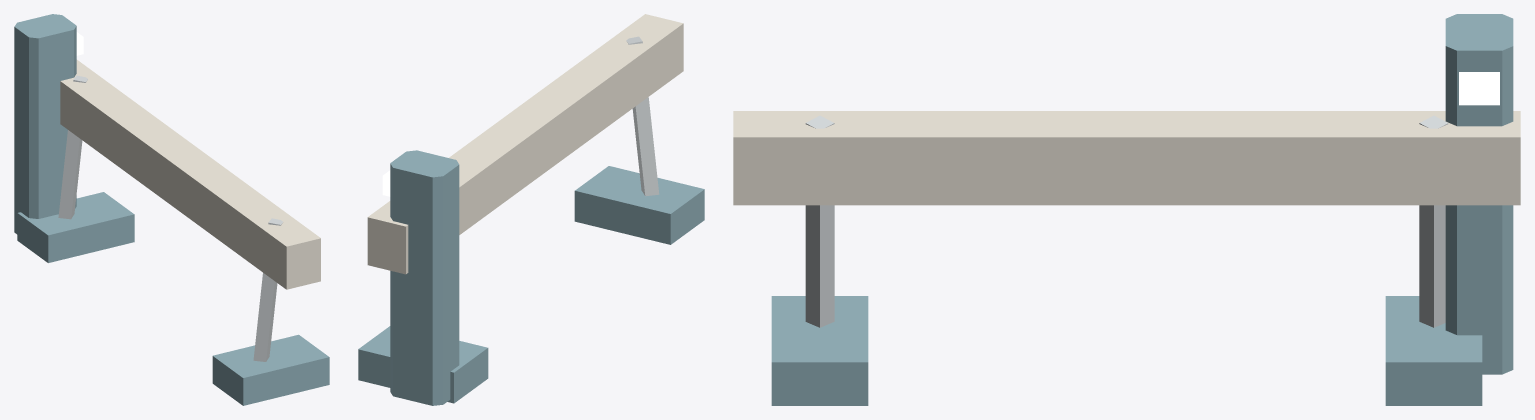
File: prop_checkpoint_gate_v4_ShadowProxy.glb
The picture shows the model from 3 angles, left to right: view 1: azimuth 30°, elevation 25°; view 2: azimuth 150°, elevation 25°; view 3: azimuth 270°, elevation 25°; orthographic projection. The views are drawn at different scales.
Parts seen in each view (by area): view 1: prop_checkpoint_gate_v4_ShadowProxy / Primary assembly; view 2: prop_checkpoint_gate_v4_ShadowProxy / Primary assembly; view 3: prop_checkpoint_gate_v4_ShadowProxy / Primary assembly.
Part boxes in pixels (left/top/right/bottom): prop_checkpoint_gate_v4_ShadowProxy / Primary assembly: left=14, top=14, right=329, bottom=405; prop_checkpoint_gate_v4_ShadowProxy / Primary assembly: left=358, top=14, right=704, bottom=405; prop_checkpoint_gate_v4_ShadowProxy / Primary assembly: left=733, top=14, right=1520, bottom=405.
Size of the model in its own units: 0.65 by 1.5 by 3.26.
